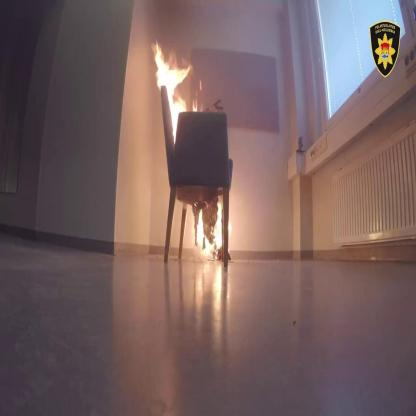Fire: (151, 25, 197, 130), (196, 207, 236, 253)
